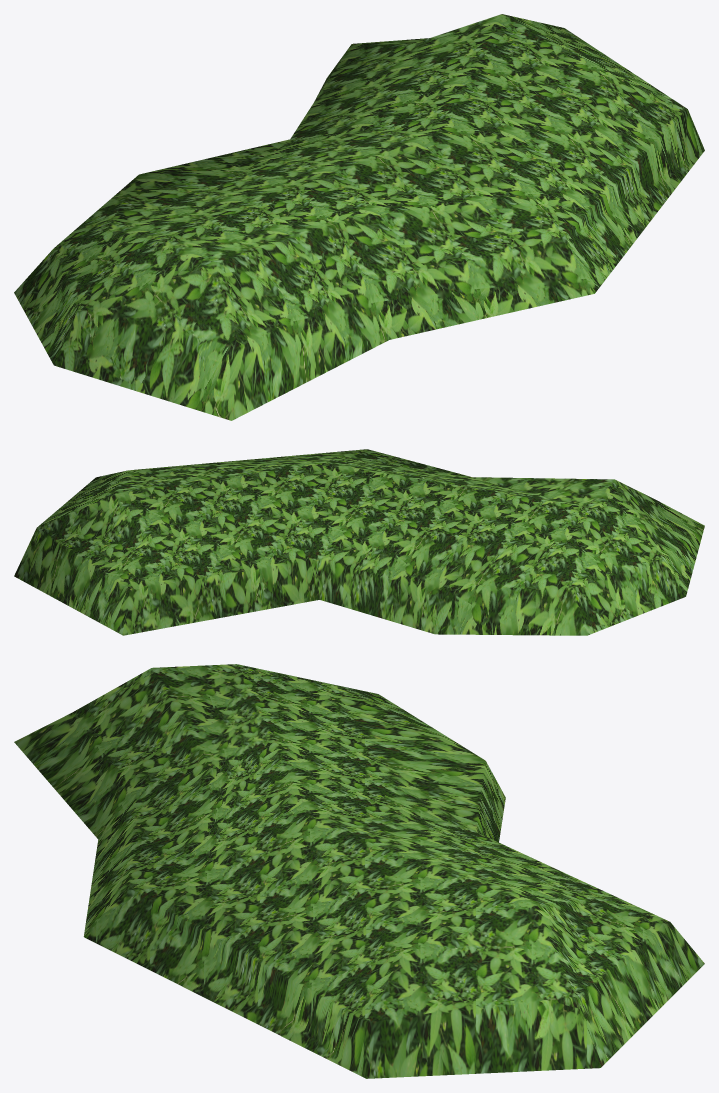
File: bush_2.fbx
3 views of the same model, one above another, from view 1: azimuth 30°, elevation 25°; view 2: azimuth 150°, elevation 25°; view 3: azimuth 270°, elevation 25° (orthographic). The views are drawn at different scales.
Visible parts, largest first — view 1: bush_2; view 2: bush_2; view 3: bush_2.
Boxes of the visible parts, x1,y1,x2,y2 form: bush_2: (14,14,704,420); bush_2: (14,449,704,635); bush_2: (14,664,704,1078).
Size of the model in its own units: 975 by 143 by 781.
